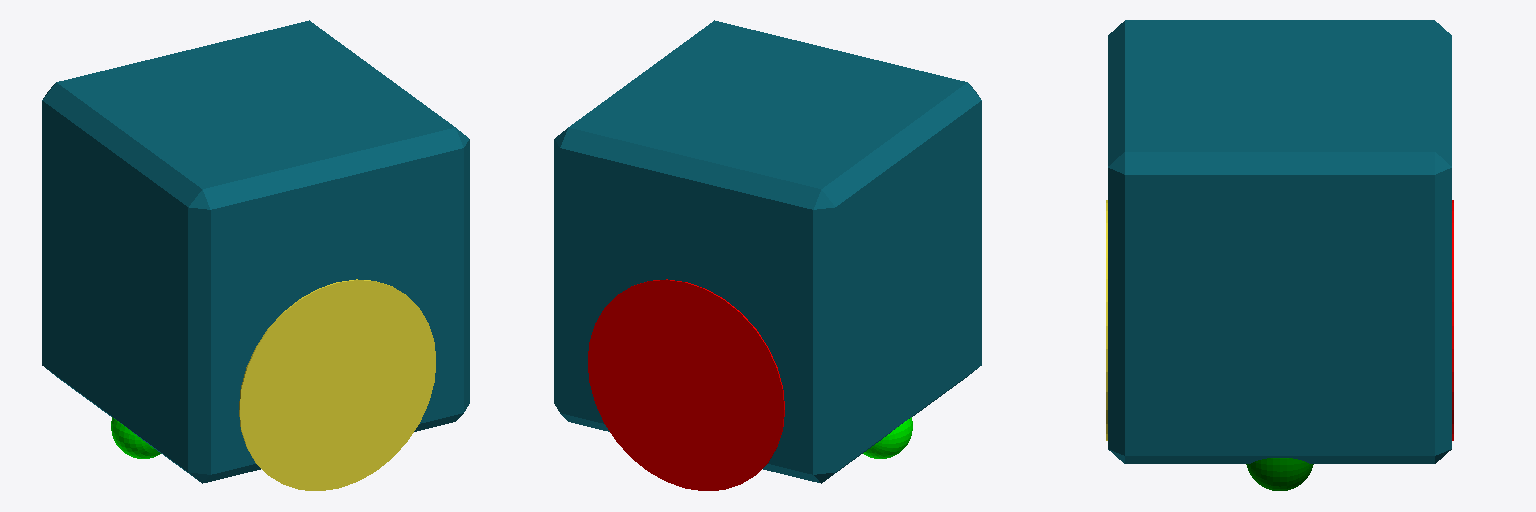
robot.urdf — box_bot:
<?xml version="1.0"?>
<robot name="box_bot">
        
  <material name="red">
      <color rgba="1.0 0.0 0.0 1"/>
  </material>

  <material name="green_light">
      <color rgba="0.0 1.0 0.0 1"/>
  </material>

  <material name="green_dark">
    <color rgba="0.0 0.5 0.0 1"/>
  </material>

  <material name="blue">
      <color rgba="0.0 0.0 1.0 1"/>
  </material>

  <material name="yellow">
      <color rgba="1.0 1.0 0.0 1"/>
  </material>

  <material name="black">
      <color rgba="0.0 0.0 0.0 1"/>
  </material>

  <material name="white">
      <color rgba="1.0 1.0 1.0 1"/>
  </material>

  <material name="box_bot_blue">
      <color rgba="0.088656 0.428691 0.491021 1"/>
  </material>

  <link name="base_link">
  </link>


  <!-- Body -->
  <link name="chassis">
    <visual>
      <geometry>
        <mesh filename="package://my_box_bot_description/meshes/cute_cube.dae" scale="0.1 0.1 0.1"/>
      </geometry>
      <material name="box_bot_blue"/>
    </visual>

    <collision>
      <geometry>
        <box size="0.1 0.1 0.1"/>
      </geometry>
    </collision>

    <inertial>
      <mass value="0.5"/>
      <origin rpy="0 0 0" xyz="0 0 0"/>
      <inertia ixx="0.0008333333333333335" ixy="0" ixz="0" iyy="0.0008333333333333335" iyz="0" izz="0.0008333333333333335"/>
    </inertial>

  </link>

  <joint name="base_link_joint" type="fixed">
    <origin rpy="0 0 0" xyz="0 0 0" />
    <parent link="base_link" />
    <child link="chassis" />
  </joint>

  <!-- Wheel Left -->
  <link name="left_wheel">      
      <visual>
        <origin rpy="0 1.5707 1.5707" xyz="0 0 0"/>
        <geometry>
          <cylinder length="0.001" radius="0.035"/>
        </geometry>
        <material name="red"/>
      </visual>

      <collision>
        <origin rpy="0 1.5707 1.5707" xyz="0 0 0"/>
        <geometry>
          <cylinder length="0.001" radius="0.035"/>
        </geometry>
      </collision>

      <inertial>
        <origin rpy="0 1.5707 1.5707" xyz="0 0 0"/>
        <mass value="0.05"/>
        <inertia ixx="1.531666666666667e-05" ixy="0" ixz="0" iyy="1.531666666666667e-05" iyz="0" izz="3.0625000000000006e-05"/>
      </inertial>

  </link>


  <joint name="joint_left_wheel" type="continuous">
    <origin rpy="0 0 0" xyz="0 0.05 -0.025"/>
    <child link="left_wheel"/>
    <parent link="chassis"/>
    <axis rpy="0 0 0" xyz="0 1 0"/>
    <limit effort="10000" velocity="1000"/>
    <joint_properties damping="1.0" friction="1.0"/>
  </joint>

  <!-- Wheel Right -->
  <link name="right_wheel">      
      <visual>
        <origin rpy="0 1.5707 1.5707" xyz="0 0 0"/>
        <geometry>
          <cylinder length="0.001" radius="0.035"/>
        </geometry>
        <material name="green"/>
      </visual>

      <collision>
        <origin rpy="0 1.5707 1.5707" xyz="0 0 0"/>
        <geometry>
          <cylinder length="0.001" radius="0.035"/>
        </geometry>
      </collision>

      <inertial>
        <origin rpy="0 1.5707 1.5707" xyz="0 0 0"/>
        <mass value="0.05"/>
        <inertia ixx="1.531666666666667e-05" ixy="0" ixz="0" iyy="1.531666666666667e-05" iyz="0" izz="3.0625000000000006e-05"/>
      </inertial>
  </link>


  <joint name="joint_right_wheel" type="continuous">  
    <origin rpy="0 0 0" xyz="0 -0.05 -0.025"/>
    <child link="right_wheel"/>
    <parent link="chassis"/>
    <axis rpy="0 0 0" xyz="0 1 0"/>
    <limit effort="10000" velocity="1000"/>
    <joint_properties damping="1.0" friction="1.0"/>
  </joint>


  <!-- Caster Wheel Front -->
  <link name="front_yaw_link">
      <visual>
        <origin rpy="0 1.5707 1.5707" xyz="0 0 0"/>
        <geometry>          
          <cylinder length="0.001" radius="0.0045000000000000005"/>
        </geometry>
        <material name="blue"/>
      </visual>

      <collision>
        <origin rpy="0 1.5707 1.5707" xyz="0 0 0"/>
        <geometry>
          <cylinder length="0.001" radius="0.0045000000000000005"/>
        </geometry>
      </collision>

      <inertial>
          <origin rpy="0 1.5707 1.5707" xyz="0 0 0"/>
          <mass value="0.001"/>
          <inertia ixx="5.145833333333334e-09" ixy="0" ixz="0" iyy="5.145833333333334e-09" iyz="0" izz="1.0125000000000003e-08"/>
      </inertial>

  </link>

  <joint name="front_yaw_joint" type="continuous">
    <origin rpy="0 0 0" xyz="0.04 0 -0.05" />
    <parent link="chassis" />
    <child link="front_yaw_link" />
    <axis xyz="0 0 1" />
    <limit effort="1000.0" velocity="100.0" />
    <dynamics damping="0.0" friction="0.1"/>
  </joint>



  <link name="front_roll_link">
      <visual>
        <origin rpy="0 1.5707 1.5707" xyz="0 0 0"/>
        <geometry>
          <cylinder length="0.001" radius="0.0045000000000000005"/>
        </geometry>
        <material name="red"/>
      </visual>

      <collision>
        <origin rpy="0 1.5707 1.5707" xyz="0 0 0"/>
        <geometry>
          <cylinder length="0.001" radius="0.0045000000000000005"/>
        </geometry>
      </collision>

      <inertial>
          <origin rpy="0 1.5707 1.5707" xyz="0 0 0"/>
          <mass value="0.001"/>
          <inertia ixx="5.145833333333334e-09" ixy="0" ixz="0" iyy="5.145833333333334e-09" iyz="0" izz="1.0125000000000003e-08"/>
      </inertial>
  </link>

  <joint name="front_roll_joint" type="continuous">
    <origin rpy="0 0 0" xyz="0 0 0" />
    <parent link="front_yaw_link" />
    <child link="front_roll_link" />
    <axis xyz="1 0 0" />
    <limit effort="1000.0" velocity="100.0" />
    <dynamics damping="0.0" friction="0.1"/>
  </joint>


  <link name="front_pitch_link">
    <visual>
      <origin rpy="0 1.5707 1.5707" xyz="0 0 0"/>
      <geometry>
        <sphere radius="0.010"/>
      </geometry>
      <material name="green_dark"/>
    </visual>

    <collision>
      <origin rpy="0 1.5707 1.5707" xyz="0 0 0"/>
      <geometry>
        <sphere radius="0.010"/>
      </geometry>
    </collision>

    <inertial>
        <origin rpy="0 1.5707 1.5707" xyz="0 0 0"/>
        <mass value="0.001"/>
        <inertia ixx="4e-08" ixy="0" ixz="0" iyy="4e-08" iyz="0" izz="4e-08"/>
    </inertial>
  </link>



  <joint name="front_pitch_joint" type="continuous">
    <origin rpy="0 0 0" xyz="0 0 0" />
    <parent link="front_roll_link" />
    <child link="front_pitch_link" />
    <axis xyz="0 1 0" />
    <limit effort="1000.0" velocity="100.0" />
    <dynamics damping="0.0" friction="0.1"/>
  </joint>

<!-- Caster Wheel Back -->
  <link name="back_yaw_link">
    <visual>
        <origin rpy="0 1.5707 1.5707" xyz="0 0 0"/>
        <geometry>
          <cylinder length="0.001" radius="0.0045000000000000005"/>
        </geometry>
        <material name="blue"/>
      </visual>

      <collision>
        <origin rpy="0 1.5707 1.5707" xyz="0 0 0"/>
        <geometry>
          <cylinder length="0.001" radius="0.0045000000000000005"/>
        </geometry>
      </collision>

      <inertial>
          <origin rpy="0 1.5707 1.5707" xyz="0 0 0"/>
          <mass value="0.001"/>
          <inertia ixx="5.145833333333334e-09" ixy="0" ixz="0" iyy="5.145833333333334e-09" iyz="0" izz="1.0125000000000003e-08"/>
      </inertial>
  </link>

  <joint name="back_yaw_joint" type="continuous">
    <origin rpy="0 0 0" xyz="-0.04 0 -0.05" />
    <parent link="chassis" />
    <child link="back_yaw_link" />
    <axis xyz="0 0 1" />
    <limit effort="1000.0" velocity="100.0" />
    <dynamics damping="0.0" friction="0.1"/>
  </joint>



  <link name="back_roll_link">
      <visual>
        <origin rpy="0 1.5707 1.5707" xyz="0 0 0"/>
        <geometry>
          <cylinder length="0.001" radius="0.0045000000000000005"/>
        </geometry>
        <material name="red"/>
      </visual>

      <collision>
        <origin rpy="0 1.5707 1.5707" xyz="0 0 0"/>
        <geometry>
          <cylinder length="0.001" radius="0.0045000000000000005"/>
        </geometry>
      </collision>

      <inertial>
          <origin rpy="0 1.5707 1.5707" xyz="0 0 0"/>
          <mass value="0.001"/>
          <inertia ixx="5.145833333333334e-09" ixy="0" ixz="0" iyy="5.145833333333334e-09" iyz="0" izz="1.0125000000000003e-08"/>
      </inertial>
  </link>

  <joint name="back_roll_joint" type="continuous">
    <origin rpy="0 0 0" xyz="0 0 0" />
    <parent link="back_yaw_link" />
    <child link="back_roll_link" />
    <axis xyz="1 0 0" />
    <limit effort="1000.0" velocity="100.0" />
    <dynamics damping="0.0" friction="0.1"/>
  </joint>



  <link name="back_pitch_link">
    <visual>
      <origin rpy="0 1.5707 1.5707" xyz="0 0 0"/>
      <geometry>
        <sphere radius="0.010"/>
      </geometry>
      <material name="green_light"/>
    </visual>

    <collision>
      <origin rpy="0 1.5707 1.5707" xyz="0 0 0"/>
      <geometry>
        <sphere radius="0.010"/>
      </geometry>
    </collision>

    <inertial>
        <origin rpy="0 1.5707 1.5707" xyz="0 0 0"/>
        <mass value="0.001"/>
        <inertia ixx="4e-08" ixy="0" ixz="0" iyy="4e-08" iyz="0" izz="4e-08"/>
    </inertial>
  </link>

  <joint name="back_pitch_joint" type="continuous">
    <origin rpy="0 0 0" xyz="0 0 0" />
    <parent link="back_roll_link" />
    <child link="back_pitch_link" />
    <axis xyz="0 1 0" />
    <limit effort="1000.0" velocity="100.0" />
    <dynamics damping="0.0" friction="0.1"/>
  </joint>

</robot>

--- What the picture shows (computed from the rendered views, not written in the file) ---
3 views of the same robot in one strip: view 1: azimuth 30°, elevation 25°; view 2: azimuth 150°, elevation 25°; view 3: azimuth 270°, elevation 25° (orthographic).
Model box_bot with 10 links and 9 joints (8 continuous, 1 fixed), rooted at base_link, posed every joint at zero.
Visible links, largest first — view 1: chassis, right_wheel, back_pitch_link; view 2: chassis, left_wheel, back_pitch_link; view 3: chassis, front_pitch_link.
Link boxes in pixels (x1=…): chassis: x1=42, y1=20, x2=469, y2=483; right_wheel: x1=239, y1=279, x2=435, y2=490; back_pitch_link: x1=111, y1=417, x2=160, y2=458; chassis: x1=554, y1=20, x2=981, y2=483; left_wheel: x1=588, y1=279, x2=784, y2=490; back_pitch_link: x1=863, y1=417, x2=912, y2=458; chassis: x1=1108, y1=20, x2=1451, y2=463; front_pitch_link: x1=1246, y1=458, x2=1313, y2=490.
Size in the robot's own frame: 0.1 by 0.101 by 0.11 metres.
1 mesh visuals loaded from 1 distinct referenced files (1 Collada DAE).